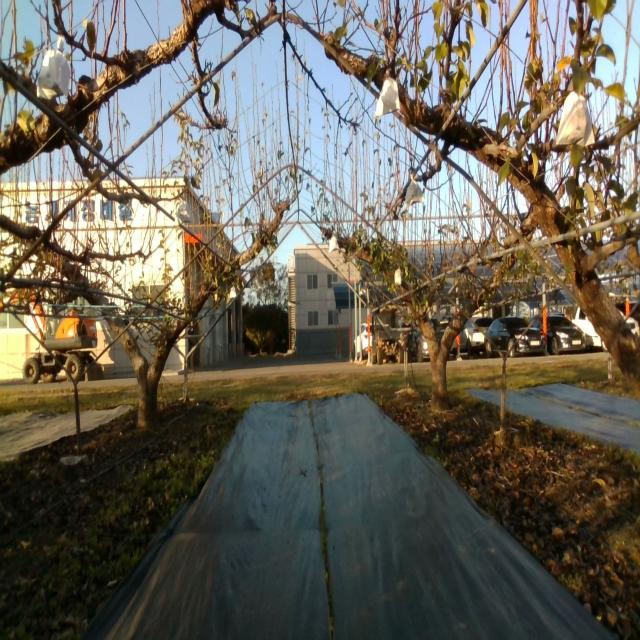pearbags: (553, 91, 595, 149), (37, 35, 70, 100), (374, 76, 400, 118), (404, 173, 424, 210), (174, 200, 192, 227), (328, 236, 341, 254)
